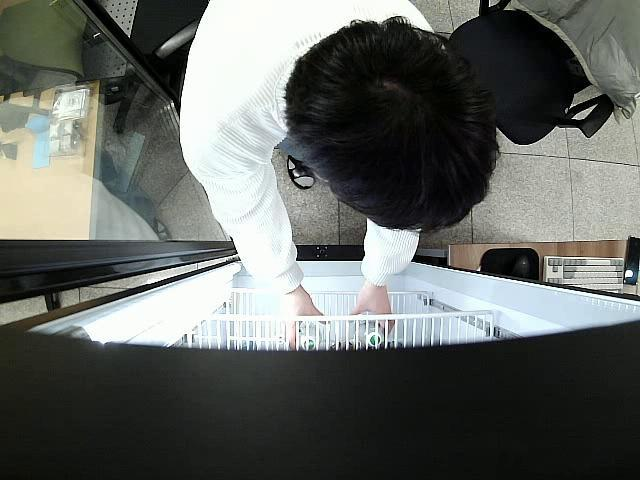18_trevi: (296, 322, 322, 350), (362, 326, 388, 348)
